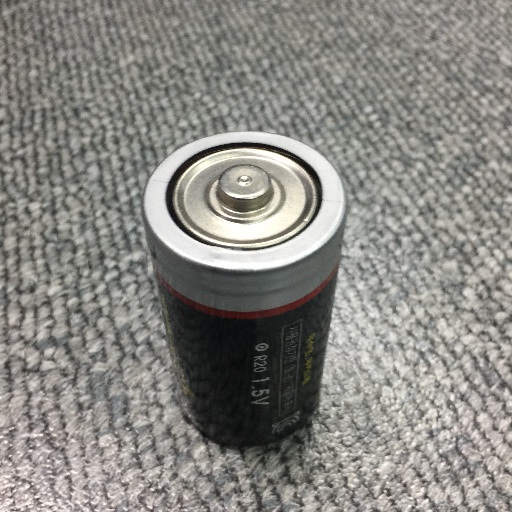Battery_0: (129, 110, 361, 453)
